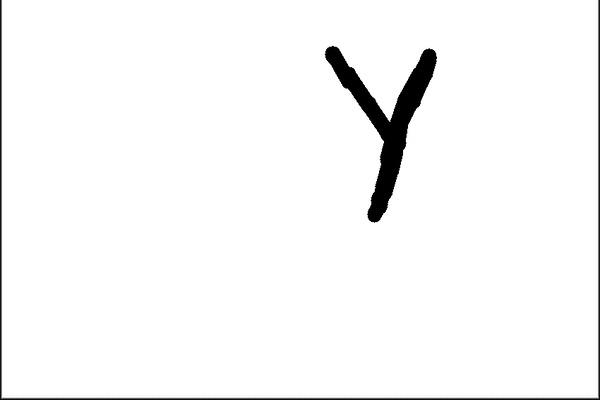Y: (311, 36, 452, 234)
